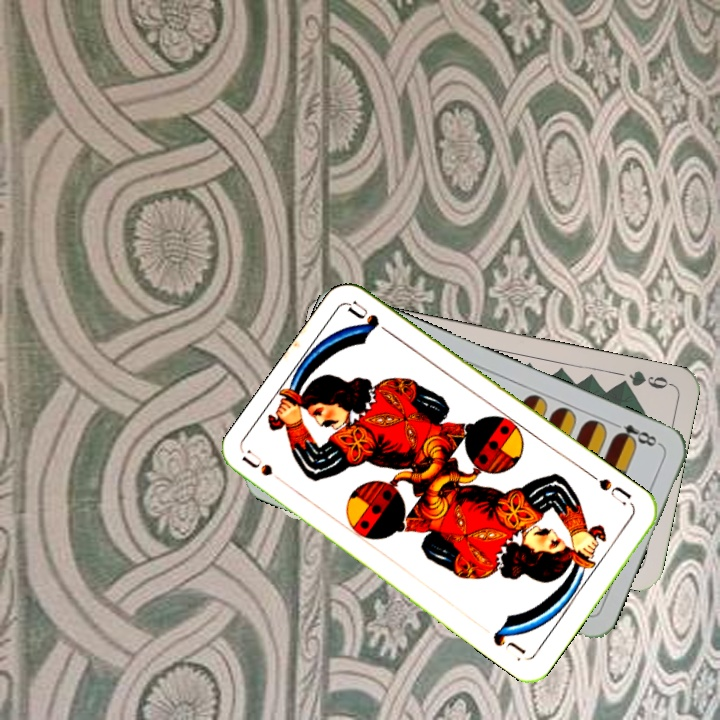E8: (607, 417, 663, 449)
G9: (614, 366, 674, 392)
SU: (239, 446, 293, 490), (585, 469, 637, 510)
